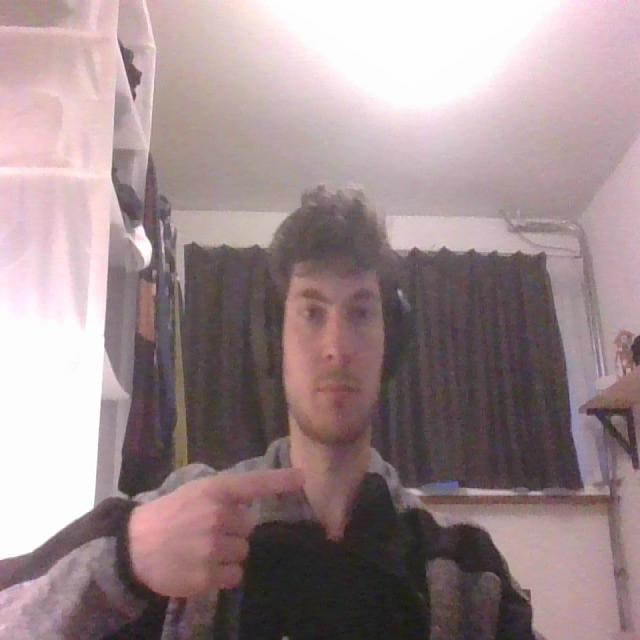right: (129, 462, 314, 598)
